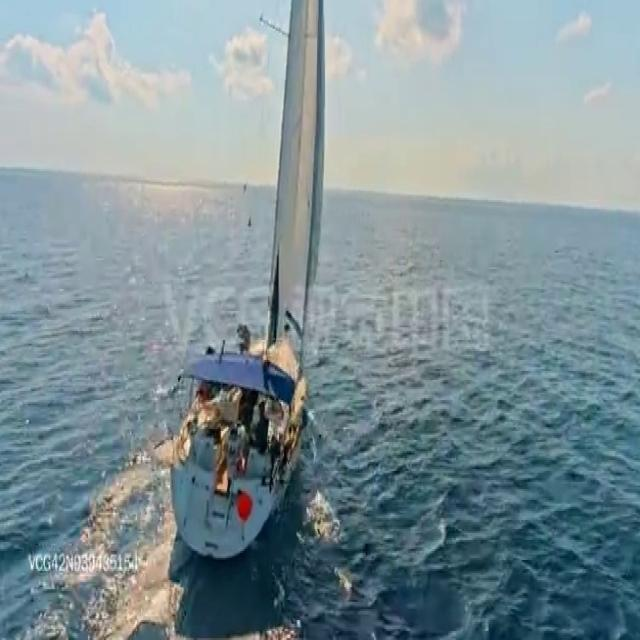sailboat: (162, 0, 332, 562)
